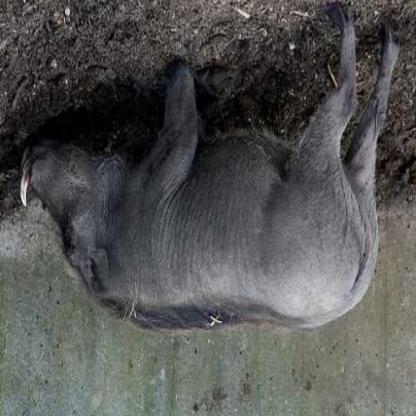boar: (3, 1, 415, 367)
